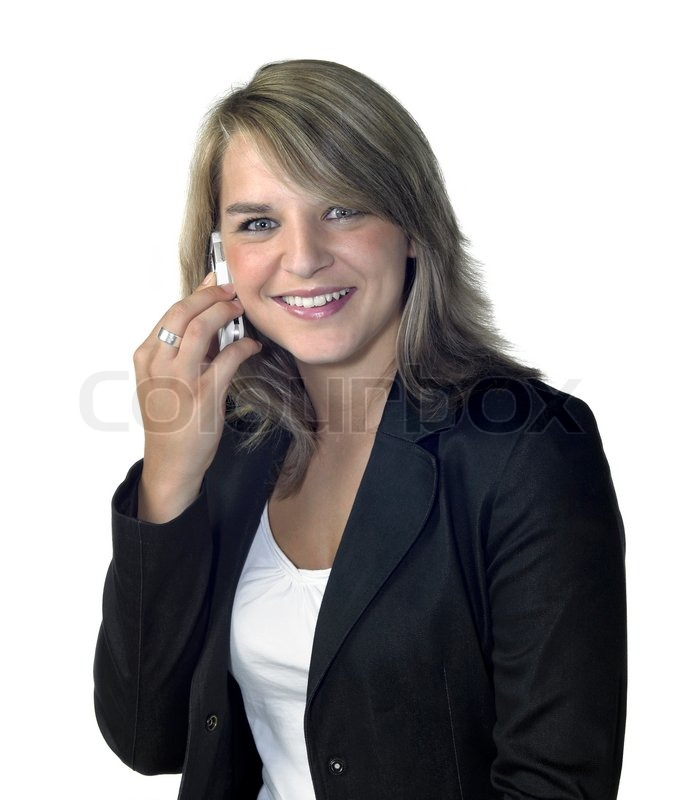phone: (205, 233, 249, 365)
talk: (129, 184, 407, 497)
